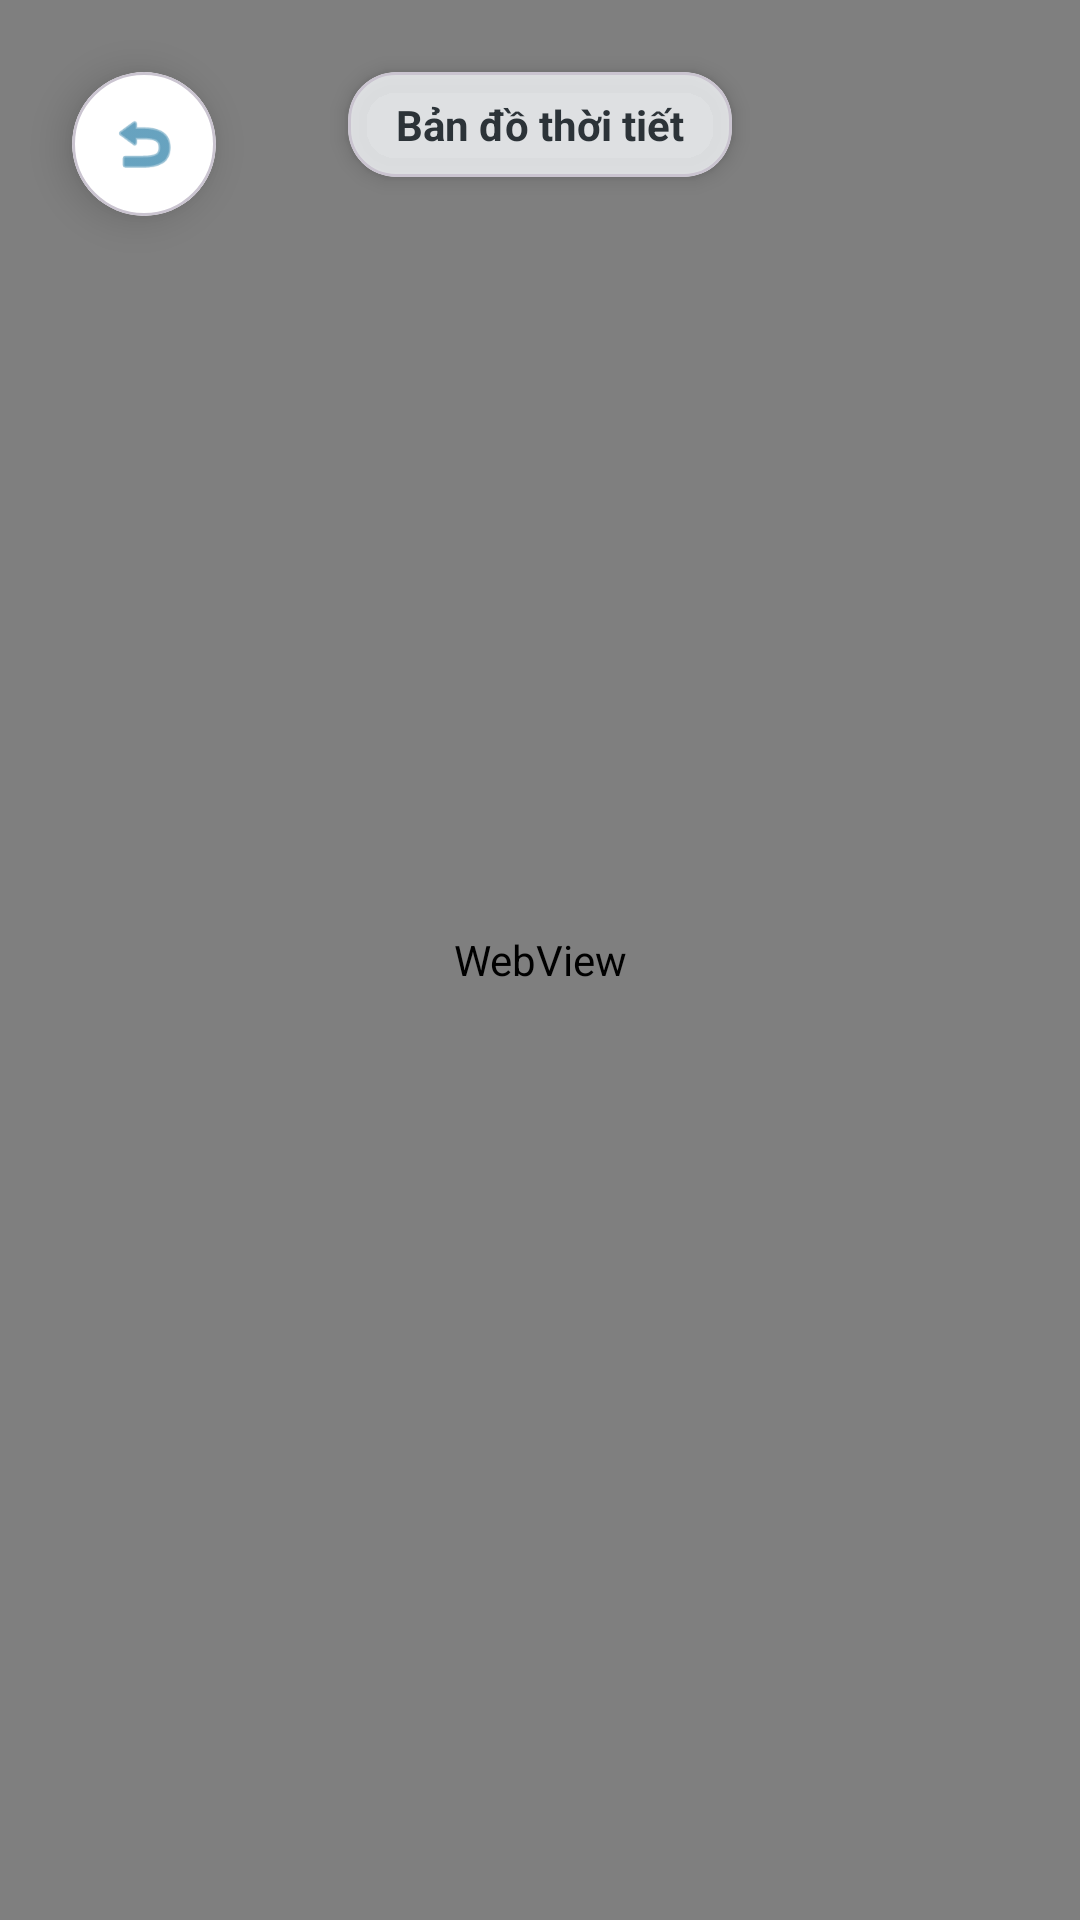

Where to tap for icons on this 1080 × 1920 app screen, as point (x, y):
revert: point (145, 144)
